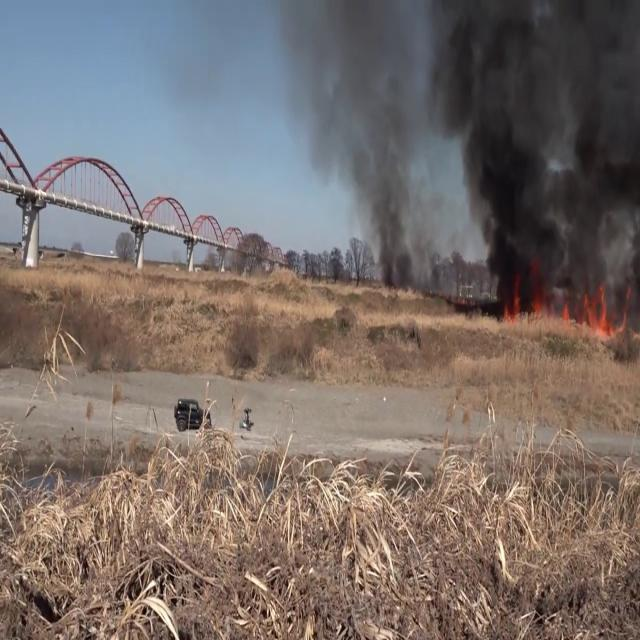Fire: (497, 267, 623, 335)
Smoke: (432, 0, 639, 301), (282, 0, 432, 272)
